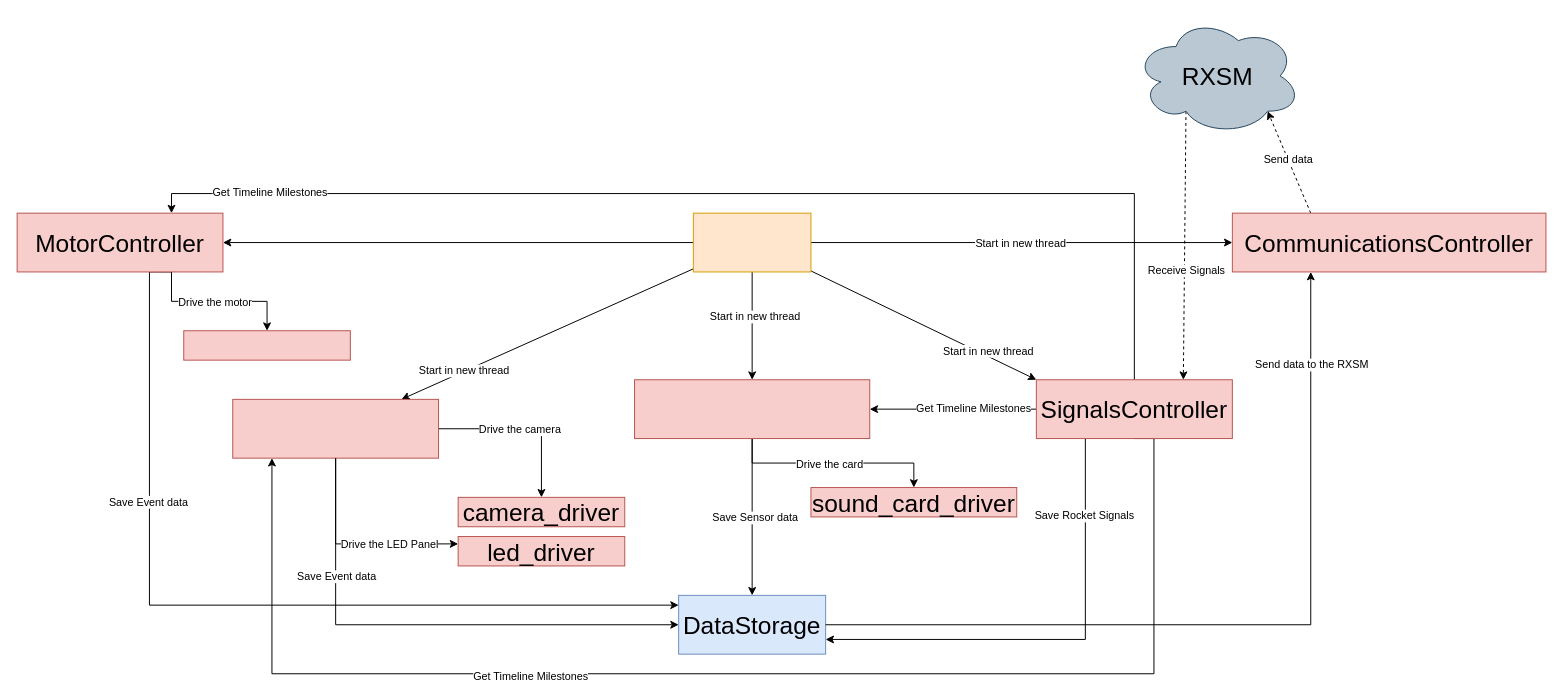
Image size: 1563x700. Some labels were removed from this diagram. Here are the shapes that lost their labels. From the top down, the centre of each, then its label:
At point (751, 242): "main".
At point (266, 345): "motor_driver".
At point (335, 428): "CameraController".
At point (752, 409): "SoundCardController".
